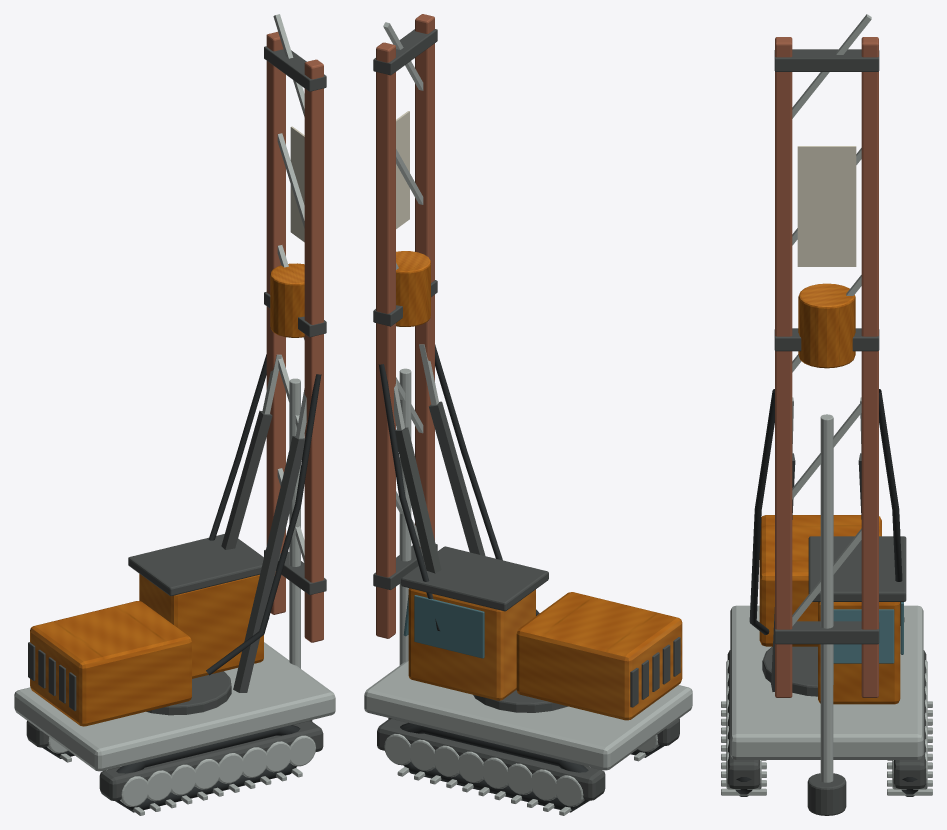
The model's file is quarry-drill-packed.glb.
The picture shows the model from 3 angles, left to right: view 1: azimuth 30°, elevation 25°; view 2: azimuth 150°, elevation 25°; view 3: azimuth 270°, elevation 25°; orthographic projection. The views are drawn at different scales.
Visible parts, largest first — view 1: 03 dusted galvanized steel • merged manufactured assembly, 01 quarry safety ochre / chipped enamel • merged manufacture, 04 oiled machinery / shadow steel • merged manufactured asse, 02 weathered red oxide structural steel • merged manufacture, 05 deep tire rubber • merged manufactured assembly, vertical identifying band; view 2: 01 quarry safety ochre / chipped enamel • merged manufacture, 03 dusted galvanized steel • merged manufactured assembly, 04 oiled machinery / shadow steel • merged manufactured asse, 02 weathered red oxide structural steel • merged manufacture, 05 deep tire rubber • merged manufactured assembly, 06 dirty blue cab glass • merged manufactured assembly, vertical identifying band; view 3: 03 dusted galvanized steel • merged manufactured assembly, 02 weathered red oxide structural steel • merged manufacture, 04 oiled machinery / shadow steel • merged manufactured asse, 01 quarry safety ochre / chipped enamel • merged manufacture, vertical identifying band, 05 deep tire rubber • merged manufactured assembly, 06 dirty blue cab glass • merged manufactured assembly.
Part boxes in pixels (left/top/right/bottom): 03 dusted galvanized steel • merged manufactured assembly: left=14, top=14, right=335, bottom=815; 01 quarry safety ochre / chipped enamel • merged manufacture: left=30, top=263, right=304, bottom=726; 04 oiled machinery / shadow steel • merged manufactured asse: left=26, top=46, right=326, bottom=800; 02 weathered red oxide structural steel • merged manufacture: left=266, top=31, right=323, bottom=642; 05 deep tire rubber • merged manufactured assembly: left=42, top=354, right=321, bottom=812; vertical identifying band: left=290, top=126, right=304, bottom=242; 01 quarry safety ochre / chipped enamel • merged manufacture: left=396, top=251, right=682, bottom=720; 03 dusted galvanized steel • merged manufactured assembly: left=364, top=22, right=692, bottom=815; 04 oiled machinery / shadow steel • merged manufactured asse: left=373, top=29, right=680, bottom=800; 02 weathered red oxide structural steel • merged manufacture: left=376, top=14, right=434, bottom=638; 05 deep tire rubber • merged manufactured assembly: left=378, top=344, right=676, bottom=812; 06 dirty blue cab glass • merged manufactured assembly: left=403, top=595, right=484, bottom=658; vertical identifying band: left=396, top=111, right=409, bottom=228; 03 dusted galvanized steel • merged manufactured assembly: left=721, top=14, right=932, bottom=795; 02 weathered red oxide structural steel • merged manufacture: left=775, top=37, right=878, bottom=697; 04 oiled machinery / shadow steel • merged manufactured asse: left=727, top=49, right=926, bottom=815; 01 quarry safety ochre / chipped enamel • merged manufacture: left=759, top=283, right=900, bottom=704; vertical identifying band: left=797, top=146, right=856, bottom=266; 05 deep tire rubber • merged manufactured assembly: left=735, top=389, right=918, bottom=796; 06 dirty blue cab glass • merged manufactured assembly: left=833, top=602, right=903, bottom=663.
Size of the model in its own units: 6.87 by 17.46 by 4.16.
Materials: 7 (1 with a texture image).
